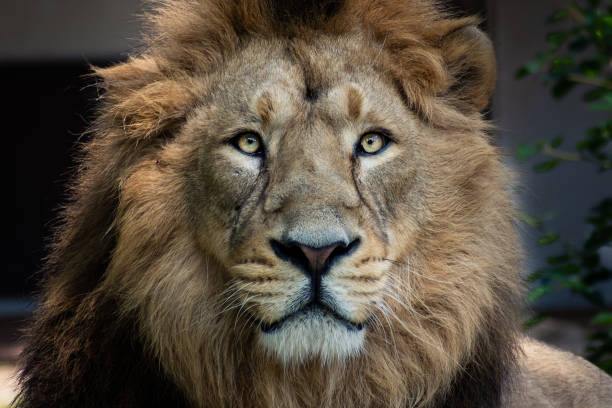lion: (44, 5, 559, 408)
